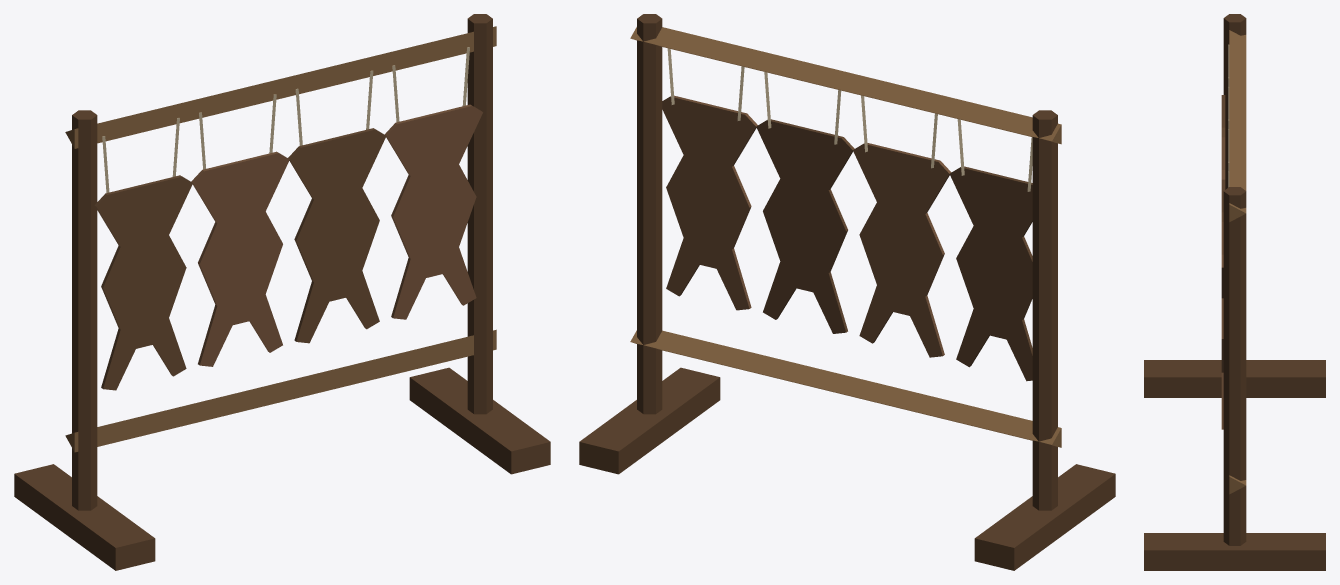
The model's file is hide-rack.glb.
The picture shows the model from 3 angles, left to right: view 1: azimuth 30°, elevation 25°; view 2: azimuth 150°, elevation 25°; view 3: azimuth 270°, elevation 25°; orthographic projection. The views are drawn at different scales.
Parts seen in each view (by area): view 1: frame, hide_1, hide_2, hide_3, hide_4; view 2: frame, hide_2, hide_3, hide_4, hide_1; view 3: frame, hide_4, hide_2, hide_1.
Part boxes in pixels (bbox=[...]): frame: bbox=[14, 14, 550, 570]; hide_1: bbox=[94, 118, 192, 390]; hide_2: bbox=[191, 94, 289, 366]; hide_3: bbox=[288, 70, 386, 343]; hide_4: bbox=[385, 47, 482, 319]; frame: bbox=[579, 14, 1115, 570]; hide_2: bbox=[853, 95, 951, 357]; hide_3: bbox=[756, 72, 854, 333]; hide_4: bbox=[662, 48, 757, 310]; hide_1: bbox=[949, 119, 1032, 381]; frame: bbox=[1144, 14, 1325, 570]; hide_4: bbox=[1221, 171, 1229, 429]; hide_2: bbox=[1221, 87, 1229, 179]; hide_1: bbox=[1221, 44, 1229, 137].
Bounding box in the file's own units: 0.99 × 0.9 × 0.4.
